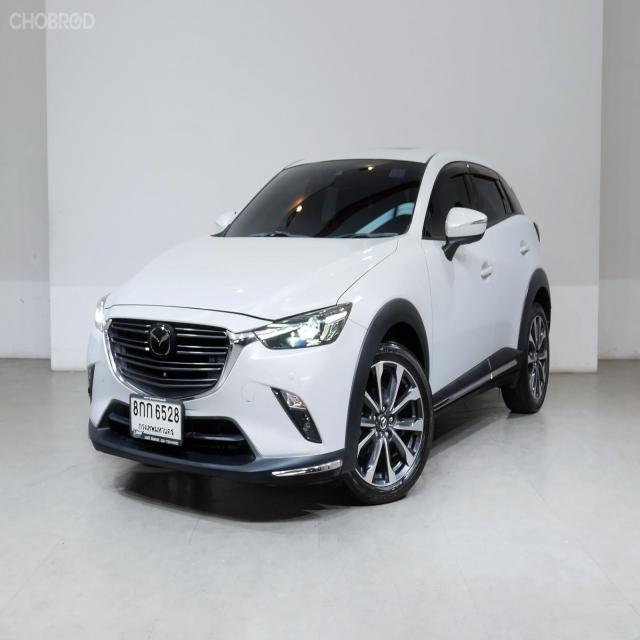license_plate: (129, 393, 186, 445)
